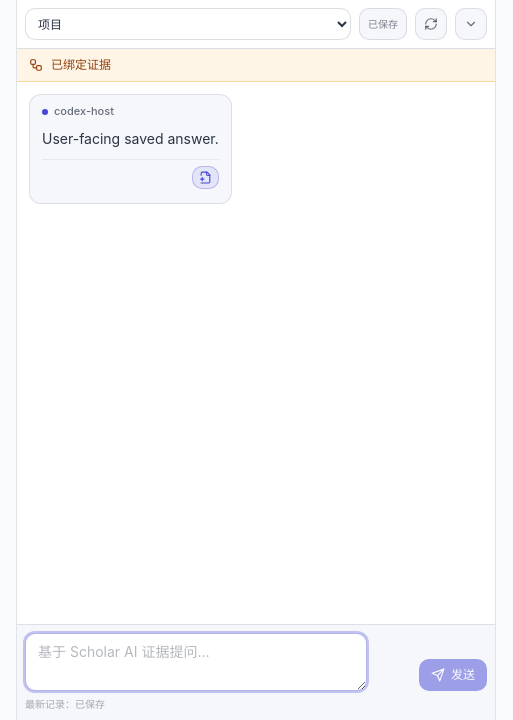
Test: AgentSidebar › keeps smoke or slice-diagnostic receipts out of the compact history UI
Expected: the text "User-facing saved answer." is shown, [42,127,219,151]
Click the button named "显示侧栏工具" at (471, 24), box [455,8,487,40]
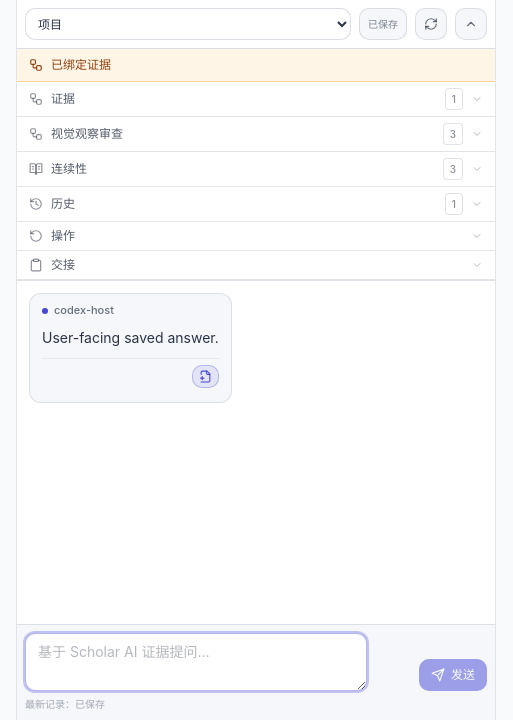
Click the text "历史" at (63, 204), box [51,196,75,211]
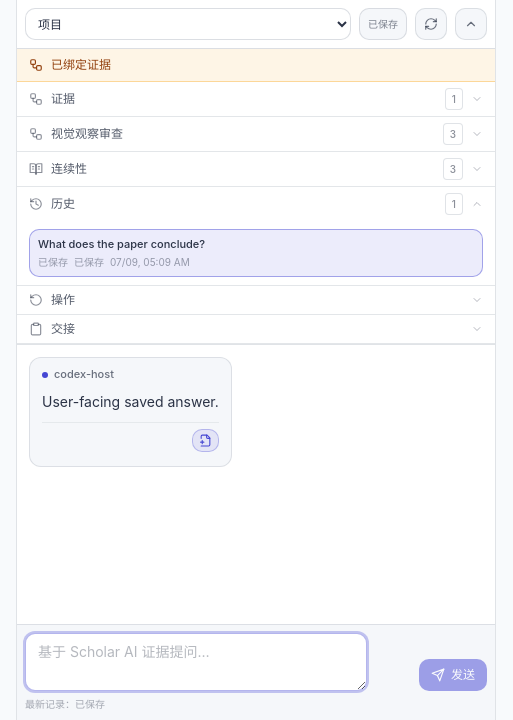
Result: the text "What does the paper conclude?" is shown at [38,237,205,251]
